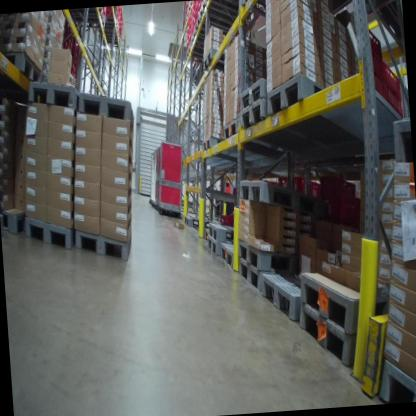pallet: (265, 70, 375, 169), (297, 260, 403, 354), (235, 89, 331, 174), (299, 294, 373, 369), (239, 170, 327, 226), (237, 236, 309, 284), (75, 89, 141, 139), (71, 222, 135, 269), (261, 268, 305, 329), (24, 213, 78, 258), (237, 255, 279, 304), (28, 83, 84, 115), (378, 357, 416, 404), (0, 49, 44, 87), (198, 0, 242, 32), (0, 201, 28, 243), (194, 14, 237, 40), (205, 218, 238, 251), (237, 75, 269, 109), (388, 117, 412, 161), (67, 10, 107, 34), (218, 238, 247, 271), (200, 45, 230, 76), (199, 134, 233, 161), (239, 0, 278, 23), (182, 211, 217, 233), (182, 39, 208, 68), (220, 114, 242, 144), (204, 232, 223, 259), (189, 26, 209, 51), (185, 7, 192, 21), (188, 1, 195, 10), (183, 17, 188, 28)
small_load_carrier: (354, 20, 386, 65), (382, 58, 404, 99), (360, 47, 384, 83), (384, 82, 405, 122), (366, 69, 386, 102)
